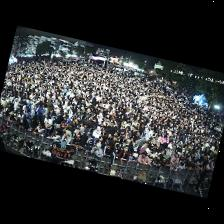person: (102, 144, 115, 170), (117, 146, 129, 164), (137, 151, 150, 166), (89, 143, 102, 157), (48, 128, 62, 141), (71, 134, 83, 149), (62, 119, 73, 135), (43, 114, 51, 135), (74, 127, 85, 142), (23, 108, 31, 126), (113, 137, 122, 153), (91, 126, 100, 141), (89, 118, 98, 133), (17, 117, 28, 129), (150, 155, 161, 167), (60, 130, 70, 143), (147, 148, 156, 162), (53, 110, 60, 128), (94, 136, 104, 148), (84, 139, 93, 152), (80, 114, 90, 125), (184, 159, 194, 170), (32, 124, 42, 135), (60, 113, 67, 128), (145, 125, 152, 140), (131, 140, 139, 153), (163, 145, 171, 158), (150, 142, 160, 152), (104, 133, 112, 145), (177, 159, 185, 171), (169, 153, 178, 163), (139, 142, 148, 152), (160, 133, 168, 144), (6, 112, 14, 123), (150, 135, 158, 145), (186, 153, 195, 161), (204, 162, 212, 171), (139, 133, 145, 145), (122, 139, 130, 148), (128, 153, 137, 161), (96, 113, 102, 124), (169, 162, 176, 171), (156, 150, 165, 157), (1, 111, 8, 120), (85, 132, 91, 142), (198, 161, 204, 171), (193, 161, 198, 173), (179, 151, 188, 157), (179, 155, 187, 161), (83, 124, 88, 133), (15, 117, 20, 125)
